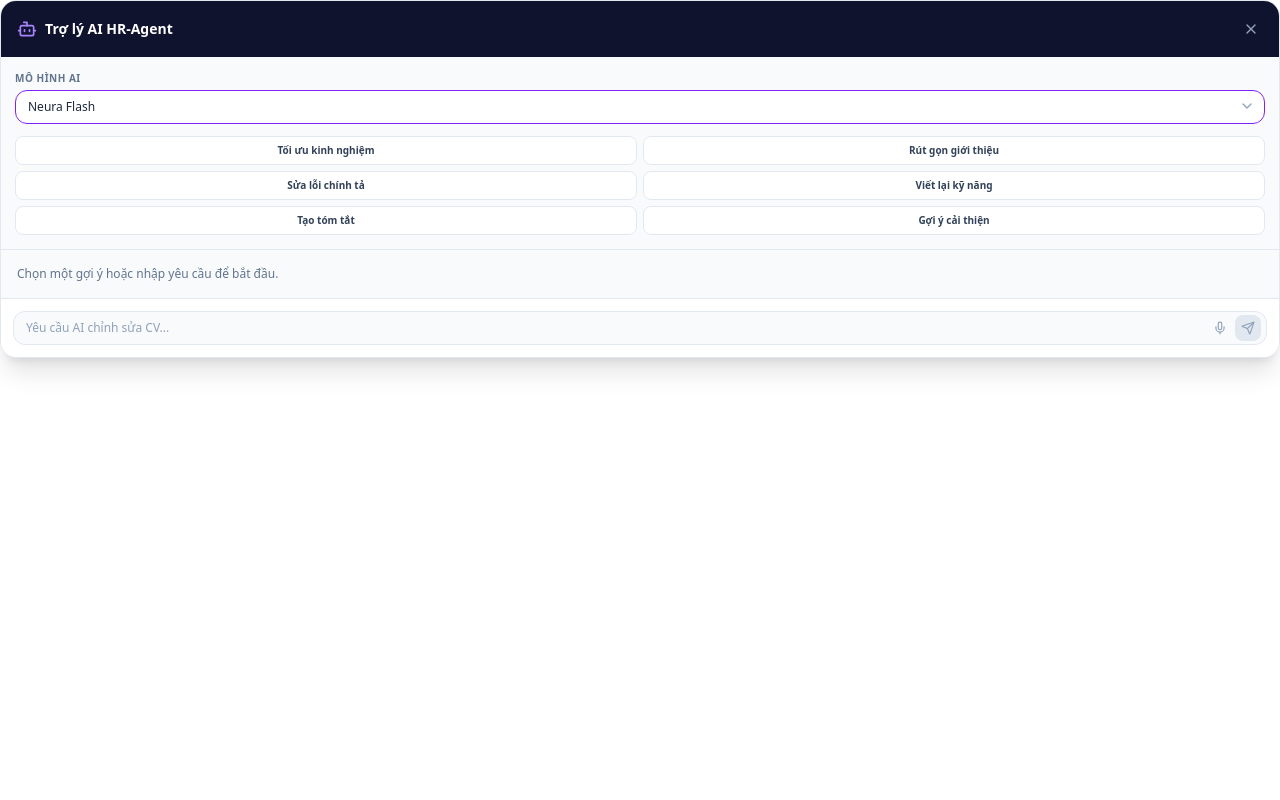
it: bảng đề xuất neo theo dòng hội thoại › chỉ giữ một bảng sống khi có đề xuất mới, tóm tắt cũ ở lại trong lịch sử
Click the button "Viết lại kỹ năng" at (954, 186), box [643, 171, 1265, 200]
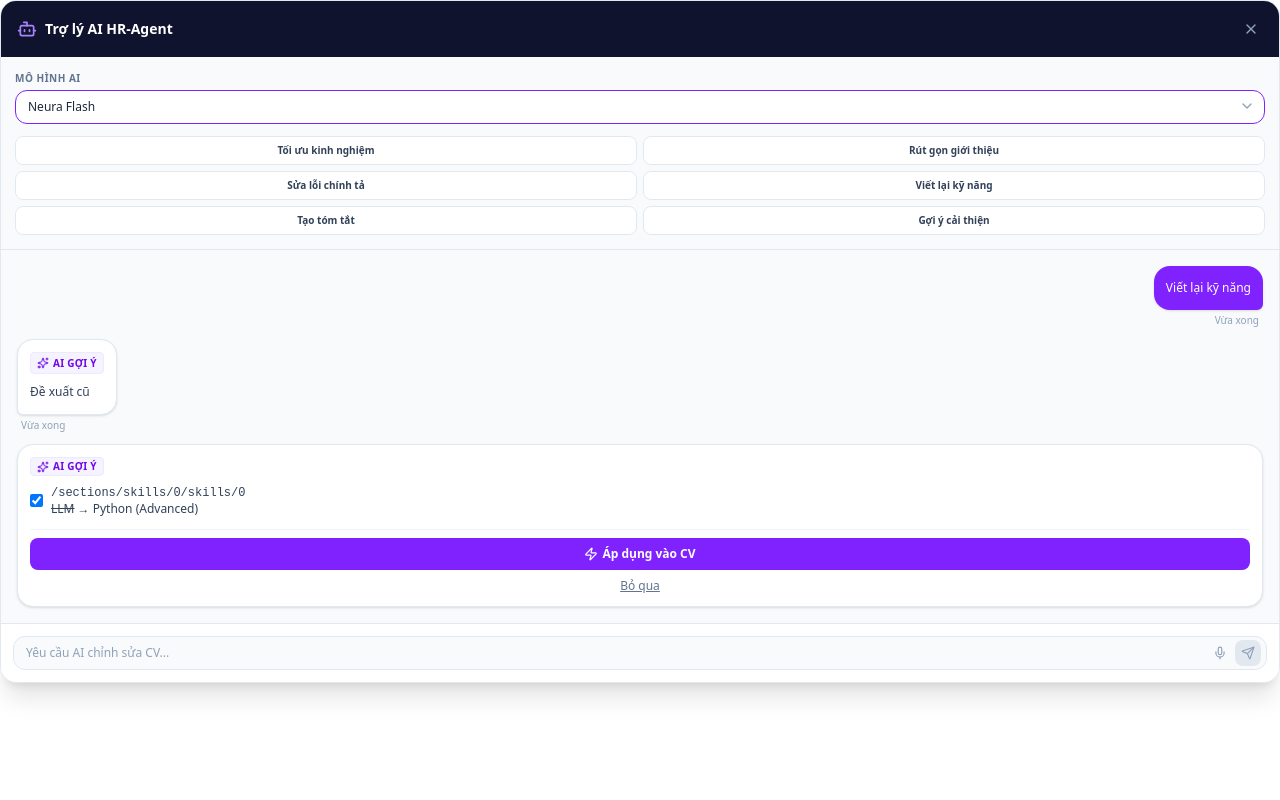
Expected: the element with test id "ai-proposal" is shown, [17, 444, 1263, 607]
Type "làm lại giúp tôi" into the field named "Tin nhắn cho trợ lý" at (640, 653), box [13, 636, 1267, 670]
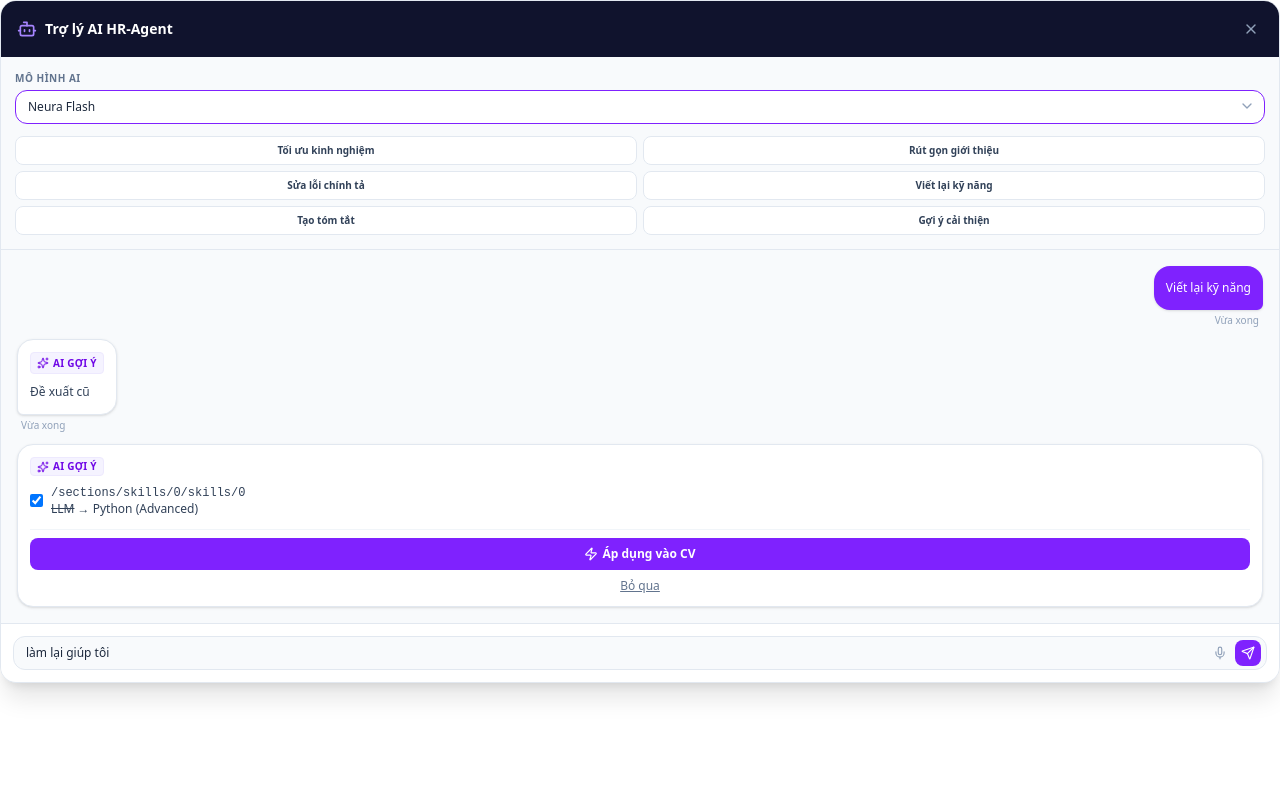
Submit the form named "Tin nhắn cho trợ lý", box [1, 623, 1279, 682]
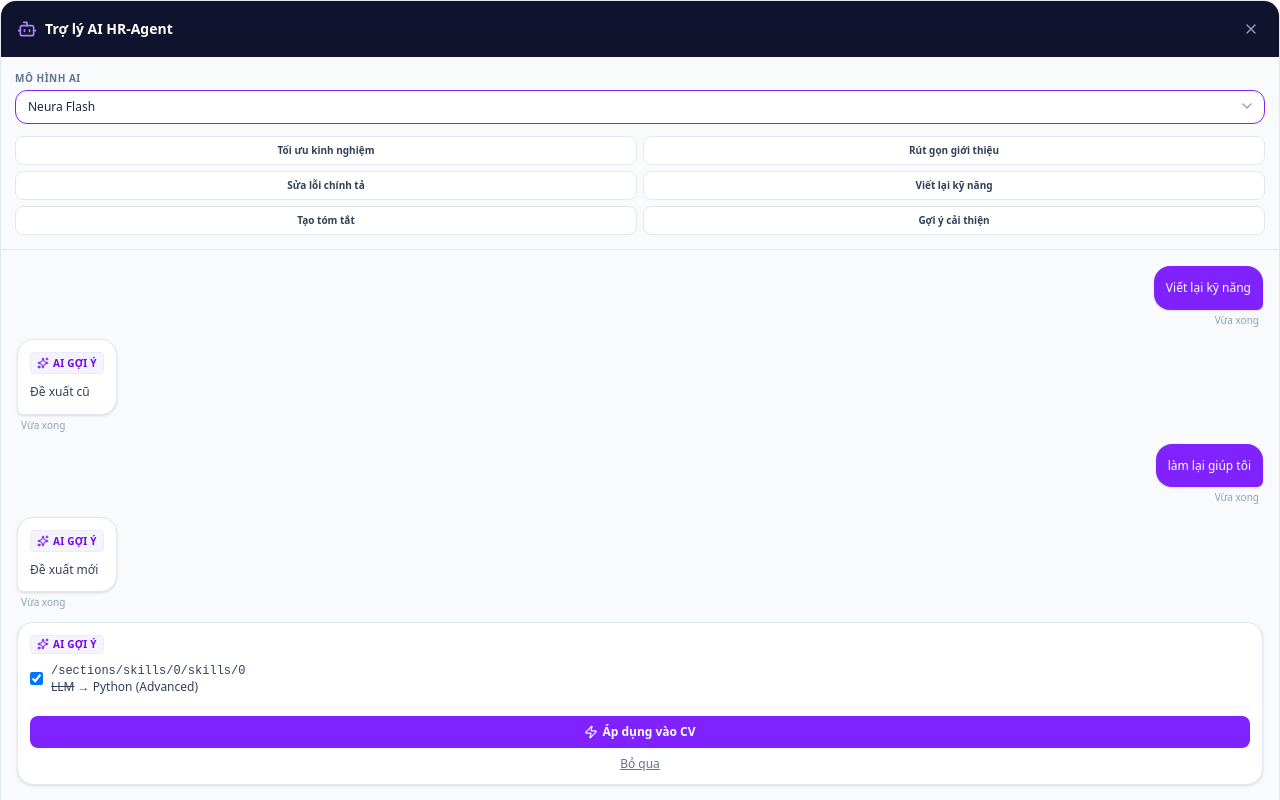
Expected: the number of elements with test id "ai-proposal" is 1, [17, 622, 1263, 785]
Expected: the text "Đề xuất cũ" is shown, [30, 383, 90, 400]
Expected: the text "Đề xuất mới" is shown, [30, 561, 98, 578]
